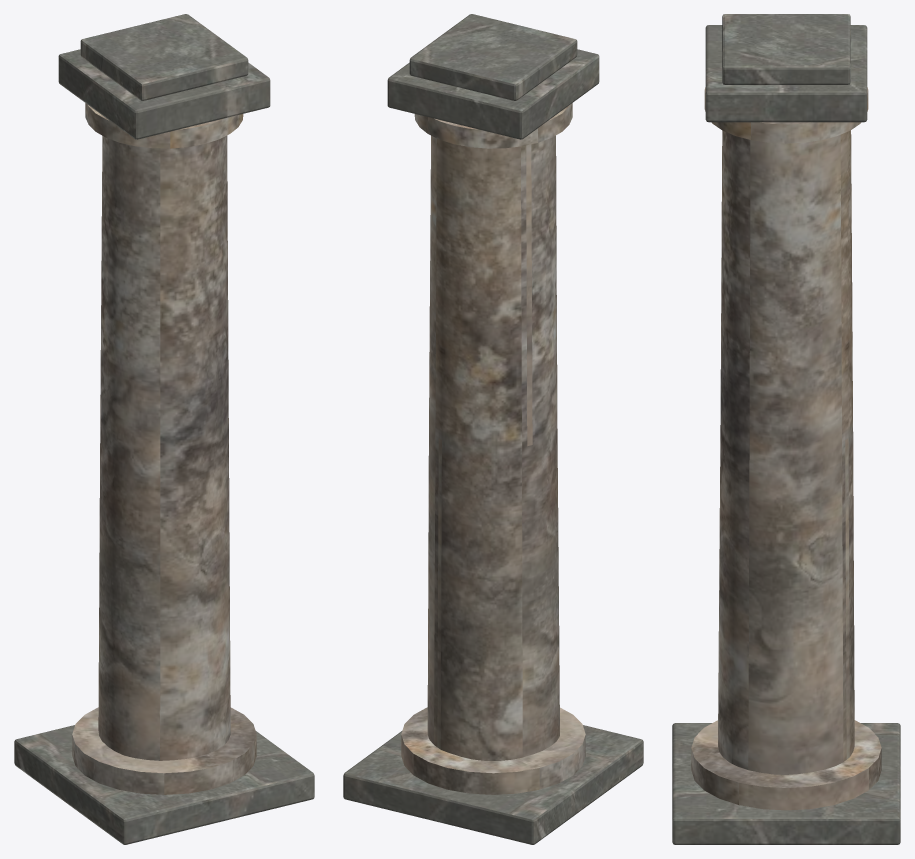
Rendered from pillar_c.glb.
3 renders of one model, left to right at view 1: azimuth 30°, elevation 25°; view 2: azimuth 150°, elevation 25°; view 3: azimuth 270°, elevation 25°, orthographic. The views are drawn at different scales.
Visible parts, largest first — view 1: pillar_c; view 2: pillar_c; view 3: pillar_c.
Part boxes in pixels (bbox=[...]): pillar_c: bbox=[14, 14, 314, 844]; pillar_c: bbox=[343, 14, 643, 844]; pillar_c: bbox=[672, 14, 900, 844].
Bounding box in the file's own units: 0.273 × 1 × 0.273.
Materials: 2 (2 with a texture image).
